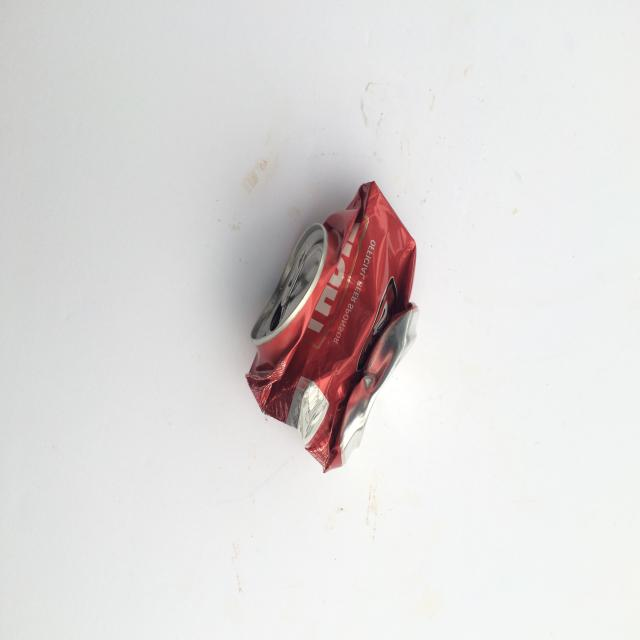metal: (246, 179, 419, 473)
